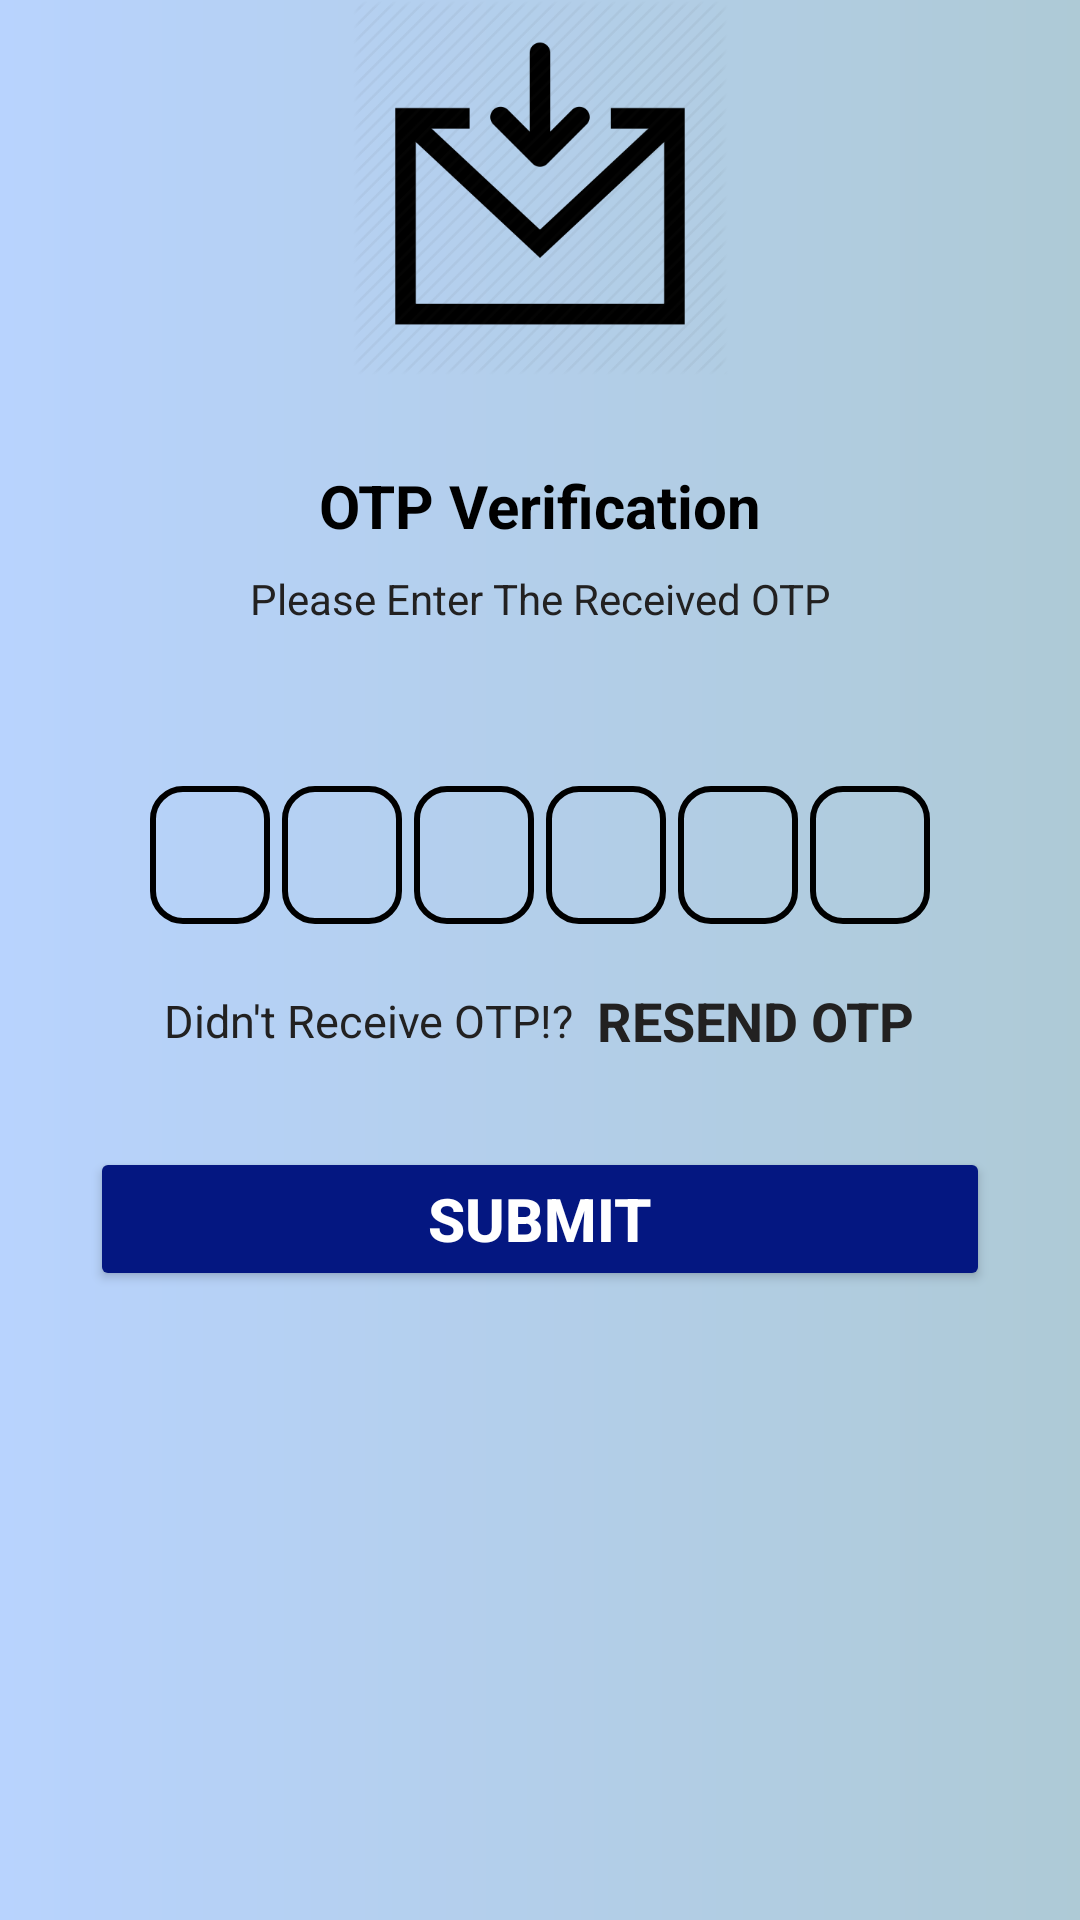

Icons on this 1080*1920 Android screen, each with the point to tap as (x,y):
recieved: (540,183)
